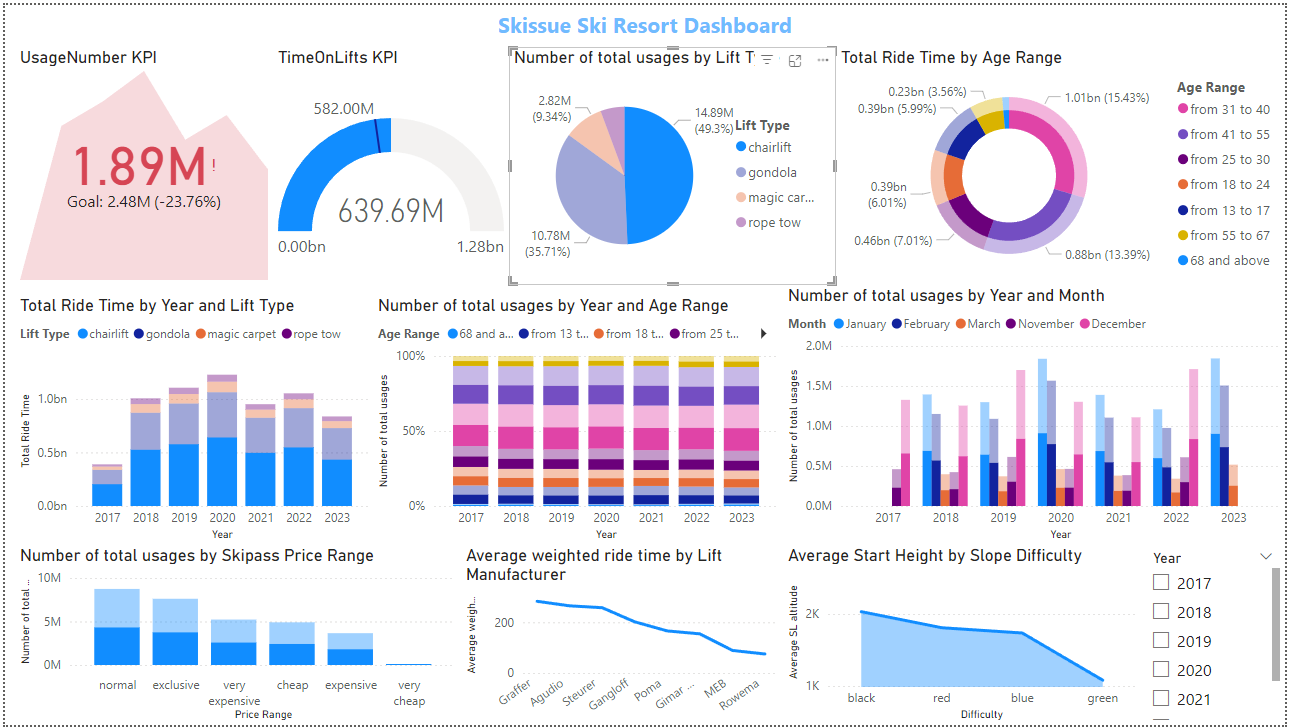

The dashboard page shown, as its layout file describes it:
{"tool":"powerbi","page":{"name":"Page 1","canvas":[1280,720],"ordinal":0},"visuals":[{"type":"kpi","title":"UsageNumber KPI","fields":{"TrendLine":["Date.Year"],"Indicator":["Ski Lift Usage.___UsageNumber Value"],"Goal":["Ski Lift Usage.UsageNumber Goal"]},"box":[9.7,41.8,258.7,238.3],"z":0},{"type":"gauge","title":"TimeOnLifts KPI","fields":{"TargetValue":["Ski Lift Usage.TimeOnLifts Goal"],"Y":["Ski Lift Usage.___TimeOnLifts Value"]},"box":[268.4,41.8,235.4,238.3],"z":1000},{"type":"columnChart","fields":{"Y":["Ski Lift Usage.Total Ride Time"],"Category":["Date.Year"],"Series":["Ski Lift.Lift Type"]},"box":[9.7,289.8,357.9,250],"z":2000},{"type":"hundredPercentStackedColumnChart","fields":{"Category":["Date.Year"],"Series":["Customers.Age Range"],"Y":["Ski Lift Usage.Number of total usages"]},"box":[367.7,289.8,410.5,250],"z":3000},{"type":"pieChart","fields":{"Y":["Ski Lift Usage.Number of total usages"],"Category":["Ski Lift.Lift Type"]},"box":[503.8,41.8,326.8,238.3],"z":4000},{"type":"donutChart","fields":{"Y":["Ski Lift Usage.Total Ride Time"],"Category":["Customers.Age Range"]},"box":[830.6,41.8,449.4,238.3],"z":5000},{"type":"clusteredColumnChart","fields":{"Y":["Ski Lift Usage.Number of total usages"],"Category":["Date.Year"],"Series":["Date.Month"]},"box":[778.1,280.1,501.9,259.7],"z":6000},{"type":"columnChart","title":"Number of total usages by Skipass Price Range","fields":{"Category":["Ski Pass.Price Range"],"Y":["Ski Lift Usage.Number of total usages"]},"box":[9.7,539.8,446.4,179.9],"z":7000},{"type":"textbox","box":[434.8,0,410.5,41.8],"z":8000},{"type":"lineChart","fields":{"Y":["Measures.Average weighted ride time"],"Category":["Ski Lift.Lift Manufacturer"]},"box":[456,540,322,180],"z":9000},{"type":"areaChart","title":"Average Start Height by Slope Difficulty","fields":{"Y":["Measures.Average SL altitude"],"Category":["Ski Slope.Difficulty"]},"box":[778.1,539.8,357,179.9],"z":10000},{"type":"slicer","fields":{"Values":["Date.Year"]},"box":[1135.1,539.8,144.9,179.9],"z":10001}]}

Visuals, with their boxes in screenshot pixels (x1, y1, x2, y2), scaled from the page's 1280x720 canvas onto the 1289x728 screenshot:
"UsageNumber KPI" kpi: locate(10, 42, 270, 283)
"TimeOnLifts KPI" gauge: locate(270, 42, 507, 283)
columnChart - Ski Lift Usage.Total Ride Time x Date.Year: locate(10, 293, 370, 546)
hundredPercentStackedColumnChart - Date.Year x Customers.Age Range: locate(370, 293, 784, 546)
pieChart - Ski Lift Usage.Number of total usages x Ski Lift.Lift Type: locate(507, 42, 836, 283)
donutChart - Ski Lift Usage.Total Ride Time x Customers.Age Range: locate(836, 42, 1288, 283)
clusteredColumnChart - Ski Lift Usage.Number of total usages x Date.Year: locate(784, 283, 1288, 546)
"Number of total usages by Skipass Price Range" columnChart: locate(10, 546, 459, 727)
textbox: locate(438, 0, 851, 42)
lineChart - Measures.Average weighted ride time x Ski Lift.Lift Manufacturer: locate(459, 546, 783, 727)
"Average Start Height by Slope Difficulty" areaChart: locate(784, 546, 1143, 727)
slicer - Date.Year: locate(1143, 546, 1288, 727)
